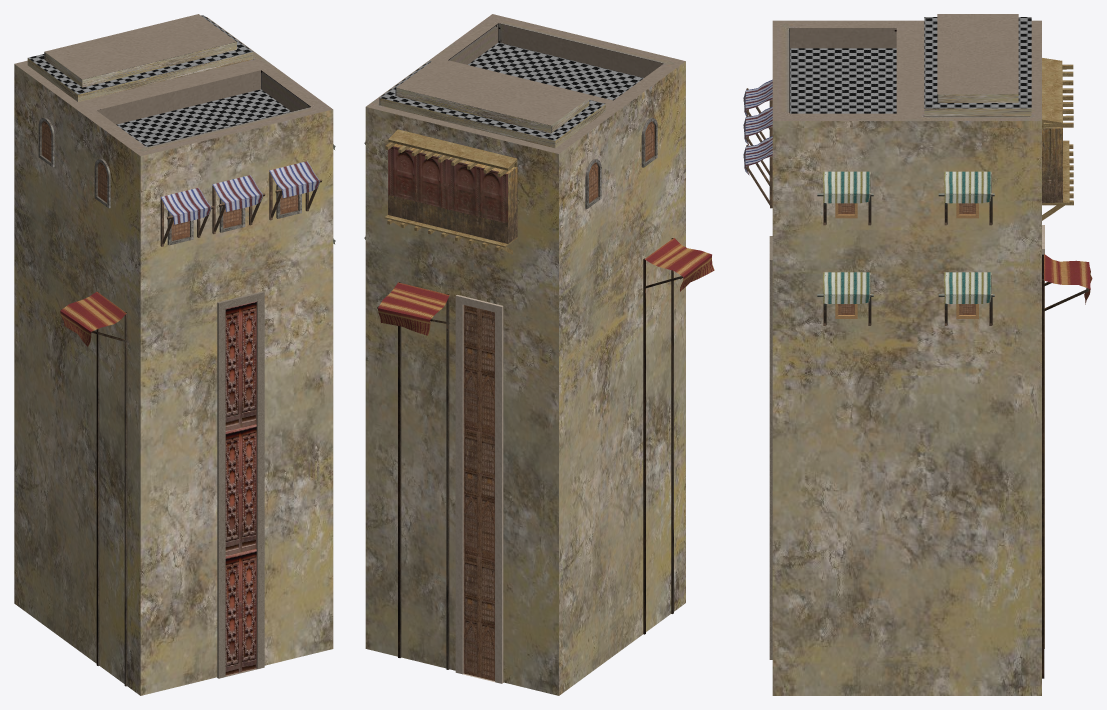
The model's file is medina_cityscape_daar_03_4.gltf.
The picture shows the model from 3 angles, left to right: view 1: azimuth 30°, elevation 25°; view 2: azimuth 150°, elevation 25°; view 3: azimuth 270°, elevation 25°; orthographic projection. The views are drawn at different scales.
Parts seen in each view (by area): view 1: medina_cityscape_daar_03_4; view 2: medina_cityscape_daar_03_4; view 3: medina_cityscape_daar_03_4.
Boxes of the visible parts, <box> form: medina_cityscape_daar_03_4: <box>14,14,335,695</box>; medina_cityscape_daar_03_4: <box>364,14,714,695</box>; medina_cityscape_daar_03_4: <box>743,14,1092,695</box>.
Size of the model in its own units: 4.22 by 8.66 by 4.62.
9 materials, 9 textured.
